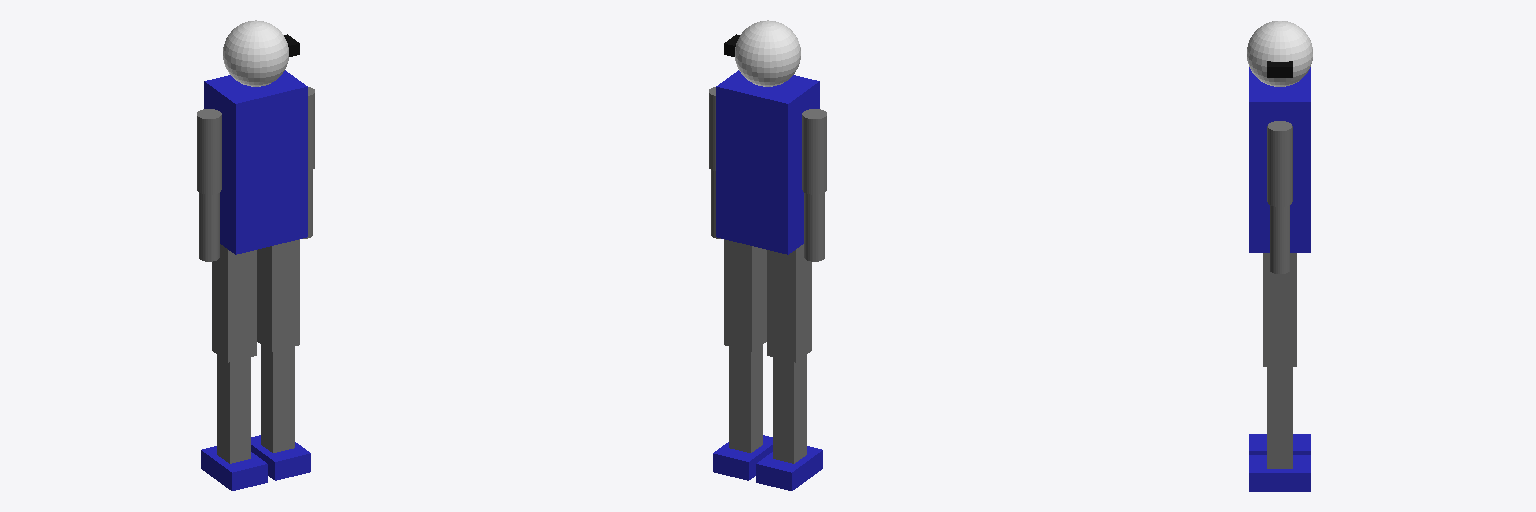
The robot description file, URDF, robot "simple_humanoid_with_camera":
<?xml version="1.0"?>
<robot name="simple_humanoid_with_camera">

  <!-- ==================== 世界根链接 ==================== -->
  <link name="base_link"/>

  <joint name="base_to_torso" type="fixed">
    <parent link="base_link"/>
    <child link="torso"/>
    <origin xyz="0 0 0.625" rpy="0 0 0"/>
  </joint>

  <!-- 基础材质 -->
  <material name="blue">
    <color rgba="0.2 0.2 0.8 1.0"/>
  </material>
  <material name="grey">
    <color rgba="0.5 0.5 0.5 1.0"/>
  </material>
  <material name="white">
    <color rgba="0.9 0.9 0.9 1.0"/>
  </material>
  <material name="black">
    <color rgba="0.1 0.1 0.1 1.0"/>
  </material>

  <!-- ==================== 躯干 ==================== -->
  <link name="torso">
    <visual>
      <geometry>
        <box size="0.2 0.15 0.4"/>
      </geometry>
      <origin xyz="0 0 0.2" rpy="0 0 0"/>
      <material name="blue"/>
    </visual>
    <collision>
      <geometry>
        <box size="0.2 0.15 0.4"/>
      </geometry>
      <origin xyz="0 0 0.2" rpy="0 0 0"/>
    </collision>
    <inertial>
      <mass value="5.0"/>
      <origin xyz="0 0 0.2" rpy="0 0 0"/>
      <inertia ixx="0.1" ixy="0" ixz="0" iyy="0.1" iyz="0" izz="0.05"/>
    </inertial>
  </link>

  <!-- ==================== 头部 ==================== -->
  <link name="head">
    <visual>
      <geometry>
        <sphere radius="0.08"/>
      </geometry>
      <origin xyz="0 0 0.08" rpy="0 0 0"/>
      <material name="white"/>
    </visual>
    <collision>
      <geometry>
        <sphere radius="0.08"/>
      </geometry>
      <origin xyz="0 0 0.08" rpy="0 0 0"/>
    </collision>
    <inertial>
      <mass value="0.5"/>
      <origin xyz="0 0 0.08" rpy="0 0 0"/>
      <inertia ixx="0.005" ixy="0" ixz="0" iyy="0.005" iyz="0" izz="0.005"/>
    </inertial>
  </link>

  <joint name="head_joint" type="fixed">
    <parent link="torso"/>
    <child link="head"/>
    <origin xyz="0 0 0.4" rpy="0 0 0"/>
  </joint>

  <!-- ==================== 相机 ==================== -->
  <link name="camera_link">
    <visual>
      <geometry>
        <box size="0.03 0.06 0.03"/>
      </geometry>
      <origin xyz="0 0 0" rpy="0 0 0"/>
      <material name="black"/>
    </visual>
    <collision>
      <geometry>
        <box size="0.03 0.06 0.03"/>
      </geometry>
      <origin xyz="0 0 0" rpy="0 0 0"/>
    </collision>
    <inertial>
      <mass value="0.01"/>
      <inertia ixx="0.000001" ixy="0" ixz="0" iyy="0.000001" iyz="0" izz="0.000001"/>
    </inertial>
  </link>

  <joint name="camera_joint" type="fixed">
    <parent link="head"/>
    <child link="camera_link"/>
    <!-- 相机安装在头部前方，朝 +x 方向看 -->
    <origin xyz="0.09 0 0.08" rpy="0 0 0"/>
  </joint>

  <!-- ==================== 左臂 ==================== -->
  <link name="left_upper_arm">
    <visual>
      <geometry><cylinder length="0.2" radius="0.03"/></geometry>
      <origin xyz="0 0 -0.1" rpy="0 0 0"/>
      <material name="grey"/>
    </visual>
    <collision>
      <geometry><cylinder length="0.2" radius="0.03"/></geometry>
      <origin xyz="0 0 -0.1" rpy="0 0 0"/>
    </collision>
    <inertial>
      <mass value="0.5"/>
      <origin xyz="0 0 -0.1" rpy="0 0 0"/>
      <inertia ixx="0.01" ixy="0" ixz="0" iyy="0.01" iyz="0" izz="0.001"/>
    </inertial>
  </link>

  <joint name="left_shoulder_pitch" type="revolute">
    <parent link="torso"/>
    <child link="left_upper_arm"/>
    <origin xyz="0.13 0 0.35" rpy="0 0 0"/>
    <axis xyz="1 0 0"/>
    <limit lower="-1.57" upper="1.57" effort="10" velocity="1.0"/>
  </joint>

  <link name="left_forearm">
    <visual>
      <geometry><cylinder length="0.18" radius="0.025"/></geometry>
      <origin xyz="0 0 -0.09" rpy="0 0 0"/>
      <material name="grey"/>
    </visual>
    <collision>
      <geometry><cylinder length="0.18" radius="0.025"/></geometry>
      <origin xyz="0 0 -0.09" rpy="0 0 0"/>
    </collision>
    <inertial>
      <mass value="0.3"/>
      <origin xyz="0 0 -0.09" rpy="0 0 0"/>
      <inertia ixx="0.005" ixy="0" ixz="0" iyy="0.005" iyz="0" izz="0.0005"/>
    </inertial>
  </link>

  <joint name="left_elbow" type="revolute">
    <parent link="left_upper_arm"/>
    <child link="left_forearm"/>
    <origin xyz="0 0 -0.2" rpy="0 0 0"/>
    <axis xyz="1 0 0"/>
    <limit lower="-2.0" upper="0" effort="10" velocity="1.0"/>
  </joint>

  <!-- ==================== 右臂 ==================== -->
  <link name="right_upper_arm">
    <visual>
      <geometry><cylinder length="0.2" radius="0.03"/></geometry>
      <origin xyz="0 0 -0.1" rpy="0 0 0"/>
      <material name="grey"/>
    </visual>
    <collision>
      <geometry><cylinder length="0.2" radius="0.03"/></geometry>
      <origin xyz="0 0 -0.1" rpy="0 0 0"/>
    </collision>
    <inertial>
      <mass value="0.5"/>
      <origin xyz="0 0 -0.1" rpy="0 0 0"/>
      <inertia ixx="0.01" ixy="0" ixz="0" iyy="0.01" iyz="0" izz="0.001"/>
    </inertial>
  </link>

  <joint name="right_shoulder_pitch" type="revolute">
    <parent link="torso"/>
    <child link="right_upper_arm"/>
    <origin xyz="-0.13 0 0.35" rpy="0 0 0"/>
    <axis xyz="1 0 0"/>
    <limit lower="-1.57" upper="1.57" effort="10" velocity="1.0"/>
  </joint>

  <link name="right_forearm">
    <visual>
      <geometry><cylinder length="0.18" radius="0.025"/></geometry>
      <origin xyz="0 0 -0.09" rpy="0 0 0"/>
      <material name="grey"/>
    </visual>
    <collision>
      <geometry><cylinder length="0.18" radius="0.025"/></geometry>
      <origin xyz="0 0 -0.09" rpy="0 0 0"/>
    </collision>
    <inertial>
      <mass value="0.3"/>
      <origin xyz="0 0 -0.09" rpy="0 0 0"/>
      <inertia ixx="0.005" ixy="0" ixz="0" iyy="0.005" iyz="0" izz="0.0005"/>
    </inertial>
  </link>

  <joint name="right_elbow" type="revolute">
    <parent link="right_upper_arm"/>
    <child link="right_forearm"/>
    <origin xyz="0 0 -0.2" rpy="0 0 0"/>
    <axis xyz="1 0 0"/>
    <limit lower="-2.0" upper="0" effort="10" velocity="1.0"/>
  </joint>

  <!-- ==================== 左腿 ==================== -->
  <link name="left_thigh">
    <visual>
      <geometry><box size="0.08 0.08 0.3"/></geometry>
      <origin xyz="0 0 -0.15" rpy="0 0 0"/>
      <material name="grey"/>
    </visual>
    <collision>
      <geometry><box size="0.08 0.08 0.3"/></geometry>
      <origin xyz="0 0 -0.15" rpy="0 0 0"/>
    </collision>
    <inertial>
      <mass value="1.0"/>
      <origin xyz="0 0 -0.15" rpy="0 0 0"/>
      <inertia ixx="0.02" ixy="0" ixz="0" iyy="0.02" iyz="0" izz="0.005"/>
    </inertial>
  </link>

  <joint name="left_hip_pitch" type="revolute">
    <parent link="torso"/>
    <child link="left_thigh"/>
    <origin xyz="0.06 0 0" rpy="0 0 0"/>
    <axis xyz="1 0 0"/>
    <limit lower="-1.57" upper="1.57" effort="20" velocity="1.0"/>
  </joint>

  <link name="left_shin">
    <visual>
      <geometry><box size="0.06 0.06 0.3"/></geometry>
      <origin xyz="0 0 -0.15" rpy="0 0 0"/>
      <material name="grey"/>
    </visual>
    <collision>
      <geometry><box size="0.06 0.06 0.3"/></geometry>
      <origin xyz="0 0 -0.15" rpy="0 0 0"/>
    </collision>
    <inertial>
      <mass value="0.8"/>
      <origin xyz="0 0 -0.15" rpy="0 0 0"/>
      <inertia ixx="0.015" ixy="0" ixz="0" iyy="0.015" iyz="0" izz="0.003"/>
    </inertial>
  </link>

  <joint name="left_knee" type="revolute">
    <parent link="left_thigh"/>
    <child link="left_shin"/>
    <origin xyz="0 0 -0.3" rpy="0 0 0"/>
    <axis xyz="1 0 0"/>
    <limit lower="0" upper="2.0" effort="20" velocity="1.0"/>
  </joint>

  <link name="left_foot">
    <visual>
      <geometry><box size="0.1 0.15 0.05"/></geometry>
      <material name="blue"/>
    </visual>
    <collision>
      <geometry><box size="0.1 0.15 0.05"/></geometry>
    </collision>
    <inertial>
      <mass value="0.3"/>
      <inertia ixx="0.001" ixy="0" ixz="0" iyy="0.002" iyz="0" izz="0.002"/>
    </inertial>
  </link>

  <joint name="left_ankle" type="fixed">
    <parent link="left_shin"/>
    <child link="left_foot"/>
    <origin xyz="0 0 -0.3" rpy="0 0 0"/>
  </joint>

  <!-- ==================== 右腿 ==================== -->
  <link name="right_thigh">
    <visual>
      <geometry><box size="0.08 0.08 0.3"/></geometry>
      <origin xyz="0 0 -0.15" rpy="0 0 0"/>
      <material name="grey"/>
    </visual>
    <collision>
      <geometry><box size="0.08 0.08 0.3"/></geometry>
      <origin xyz="0 0 -0.15" rpy="0 0 0"/>
    </collision>
    <inertial>
      <mass value="1.0"/>
      <origin xyz="0 0 -0.15" rpy="0 0 0"/>
      <inertia ixx="0.02" ixy="0" ixz="0" iyy="0.02" iyz="0" izz="0.005"/>
    </inertial>
  </link>

  <joint name="right_hip_pitch" type="revolute">
    <parent link="torso"/>
    <child link="right_thigh"/>
    <origin xyz="-0.06 0 0" rpy="0 0 0"/>
    <axis xyz="1 0 0"/>
    <limit lower="-1.57" upper="1.57" effort="20" velocity="1.0"/>
  </joint>

  <link name="right_shin">
    <visual>
      <geometry><box size="0.06 0.06 0.3"/></geometry>
      <origin xyz="0 0 -0.15" rpy="0 0 0"/>
      <material name="grey"/>
    </visual>
    <collision>
      <geometry><box size="0.06 0.06 0.3"/></geometry>
      <origin xyz="0 0 -0.15" rpy="0 0 0"/>
    </collision>
    <inertial>
      <mass value="0.8"/>
      <origin xyz="0 0 -0.15" rpy="0 0 0"/>
      <inertia ixx="0.015" ixy="0" ixz="0" iyy="0.015" iyz="0" izz="0.003"/>
    </inertial>
  </link>

  <joint name="right_knee" type="revolute">
    <parent link="right_thigh"/>
    <child link="right_shin"/>
    <origin xyz="0 0 -0.3" rpy="0 0 0"/>
    <axis xyz="1 0 0"/>
    <limit lower="0" upper="2.0" effort="20" velocity="1.0"/>
  </joint>

  <link name="right_foot">
    <visual>
      <geometry><box size="0.1 0.15 0.05"/></geometry>
      <material name="blue"/>
    </visual>
    <collision>
      <geometry><box size="0.1 0.15 0.05"/></geometry>
    </collision>
    <inertial>
      <mass value="0.3"/>
      <inertia ixx="0.001" ixy="0" ixz="0" iyy="0.002" iyz="0" izz="0.002"/>
    </inertial>
  </link>

  <joint name="right_ankle" type="fixed">
    <parent link="right_shin"/>
    <child link="right_foot"/>
    <origin xyz="0 0 -0.3" rpy="0 0 0"/>
  </joint>

  <!-- ==================== Gazebo 材质 ==================== -->
  <gazebo reference="torso">
    <material>Gazebo/Blue</material>
  </gazebo>
  <gazebo reference="left_foot">
    <mu1>1.0</mu1><mu2>1.0</mu2>
  </gazebo>
  <gazebo reference="right_foot">
    <mu1>1.0</mu1><mu2>1.0</mu2>
  </gazebo>

  <!-- ==================== 相机传感器插件 ==================== -->
  <gazebo reference="camera_link">
    <sensor type="camera" name="head_camera">
      <update_rate>30.0</update_rate>
      <camera name="camera">
        <horizontal_fov>1.047</horizontal_fov>
        <image>
          <width>640</width>
          <height>480</height>
          <format>R8G8B8</format>
        </image>
        <clip>
          <near>0.1</near>
          <far>100</far>
        </clip>
      </camera>
      <plugin name="camera_controller" filename="libgazebo_ros_camera.so">
        <alwaysOn>true</alwaysOn>
        <updateRate>30.0</updateRate>
        <cameraName>camera</cameraName>
        <imageTopicName>image_raw</imageTopicName>
        <cameraInfoTopicName>camera_info</cameraInfoTopicName>
        <frameName>camera_link</frameName>
      </plugin>
    </sensor>
  </gazebo>

</robot>

--- What the picture shows (computed from the rendered views, not written in the file) ---
Views: 3 orthographic renders of the robot side by side, from view 1: azimuth 30°, elevation 25°; view 2: azimuth 150°, elevation 25°; view 3: azimuth 270°, elevation 25°.
Model simple_humanoid_with_camera with 14 links and 13 joints (8 revolute, 5 fixed), rooted at base_link, posed every joint at zero.
Visible links, largest first — view 1: torso, right_thigh, left_thigh, head, left_shin, right_shin, right_upper_arm, right_foot, left_foot, right_forearm, left_upper_arm; view 2: torso, right_thigh, left_thigh, head, left_shin, right_shin, right_upper_arm, right_foot, left_foot, right_forearm, left_upper_arm; view 3: torso, left_thigh, head, left_shin, left_upper_arm, left_foot, left_forearm, right_foot.
Boxes of the visible links, box(x1,y1,x2,y2) form: torso: box(204, 70, 307, 254); right_thigh: box(212, 244, 256, 362); left_thigh: box(257, 239, 299, 351); head: box(223, 20, 288, 86); left_shin: box(261, 345, 294, 452); right_shin: box(217, 355, 250, 463); right_upper_arm: box(197, 109, 221, 194); right_foot: box(201, 446, 267, 490); left_foot: box(251, 435, 310, 480); right_forearm: box(199, 193, 219, 261); left_upper_arm: box(308, 87, 314, 170); torso: box(716, 70, 819, 254); right_thigh: box(767, 244, 811, 362); left_thigh: box(724, 239, 766, 351); head: box(735, 20, 800, 86); left_shin: box(729, 345, 762, 452); right_shin: box(773, 355, 806, 463); right_upper_arm: box(802, 109, 826, 194); right_foot: box(756, 446, 822, 490); left_foot: box(713, 435, 772, 480); right_forearm: box(804, 193, 824, 261); left_upper_arm: box(709, 87, 715, 170); torso: box(1249, 67, 1310, 252); left_thigh: box(1263, 253, 1296, 366); head: box(1247, 21, 1312, 86); left_shin: box(1267, 367, 1292, 468); left_upper_arm: box(1267, 121, 1292, 206); left_foot: box(1249, 455, 1310, 491); left_forearm: box(1270, 205, 1289, 273); right_foot: box(1249, 434, 1310, 454).
Bounding box of the posed robot: 0.32 × 0.16 × 1.19 m (x, y, z).
Geometry: primitives only (box / cylinder / sphere), no mesh files.
